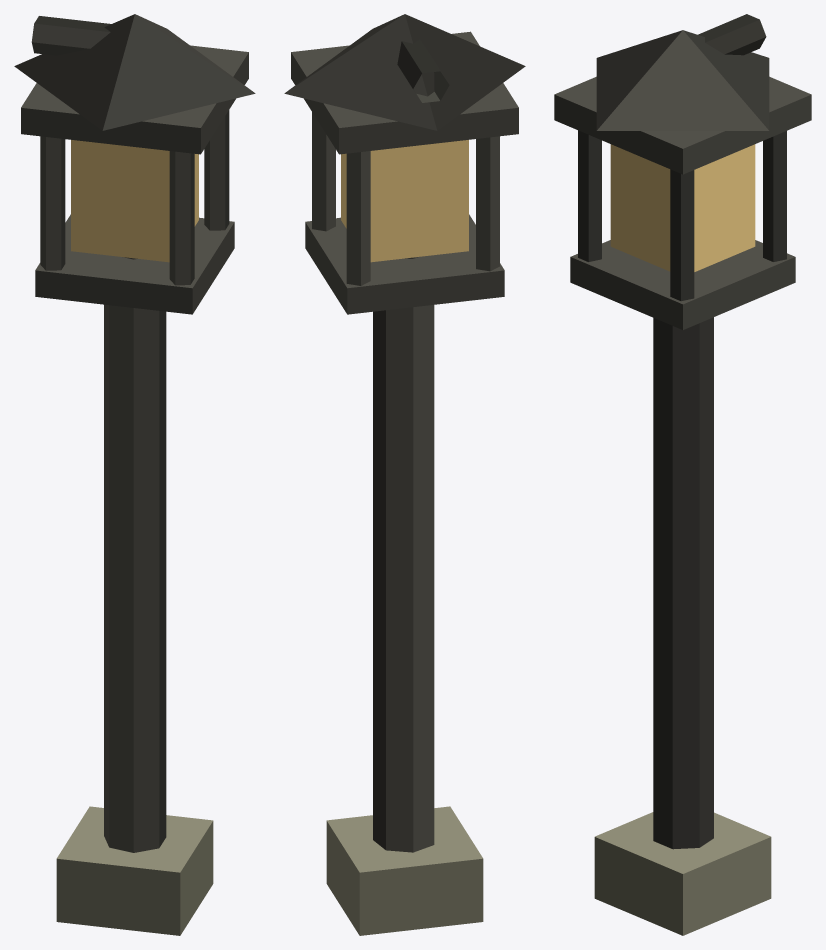
3 renders of one model, left to right at view 1: azimuth 30°, elevation 25°; view 2: azimuth 150°, elevation 25°; view 3: azimuth 270°, elevation 25°, orthographic. The views are drawn at different scales.
Parts seen in each view (by area): view 1: 3ab7abcc9c28530233f6cdbaba7e2d621843543e735debc02e5c4c861475; view 2: 3ab7abcc9c28530233f6cdbaba7e2d621843543e735debc02e5c4c861475; view 3: 3ab7abcc9c28530233f6cdbaba7e2d621843543e735debc02e5c4c861475.
Part boxes in pixels (left/top/right/bottom): 3ab7abcc9c28530233f6cdbaba7e2d621843543e735debc02e5c4c861475: left=14, top=14, right=255, bottom=935; 3ab7abcc9c28530233f6cdbaba7e2d621843543e735debc02e5c4c861475: left=284, top=14, right=525, bottom=935; 3ab7abcc9c28530233f6cdbaba7e2d621843543e735debc02e5c4c861475: left=554, top=14, right=811, bottom=935.
Bounding box in the file's own units: 0.9051 × 3.37 × 0.9051.
Materials: 2 (1 with a texture image).
